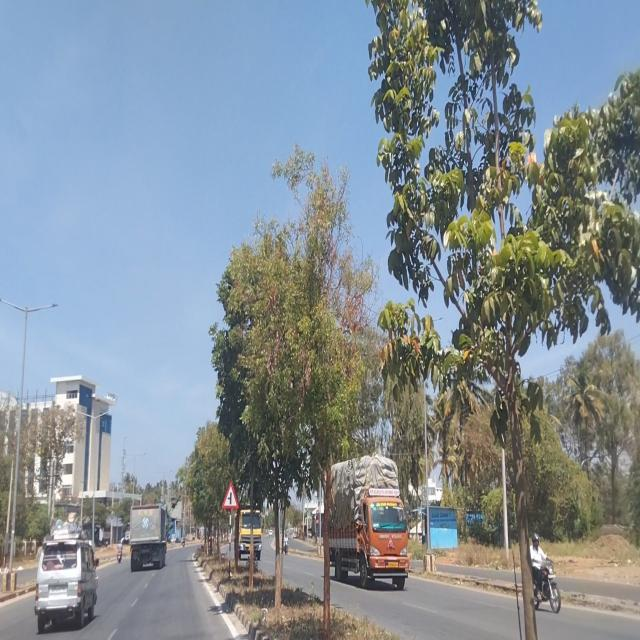bien_cam: (222, 481, 238, 511)
